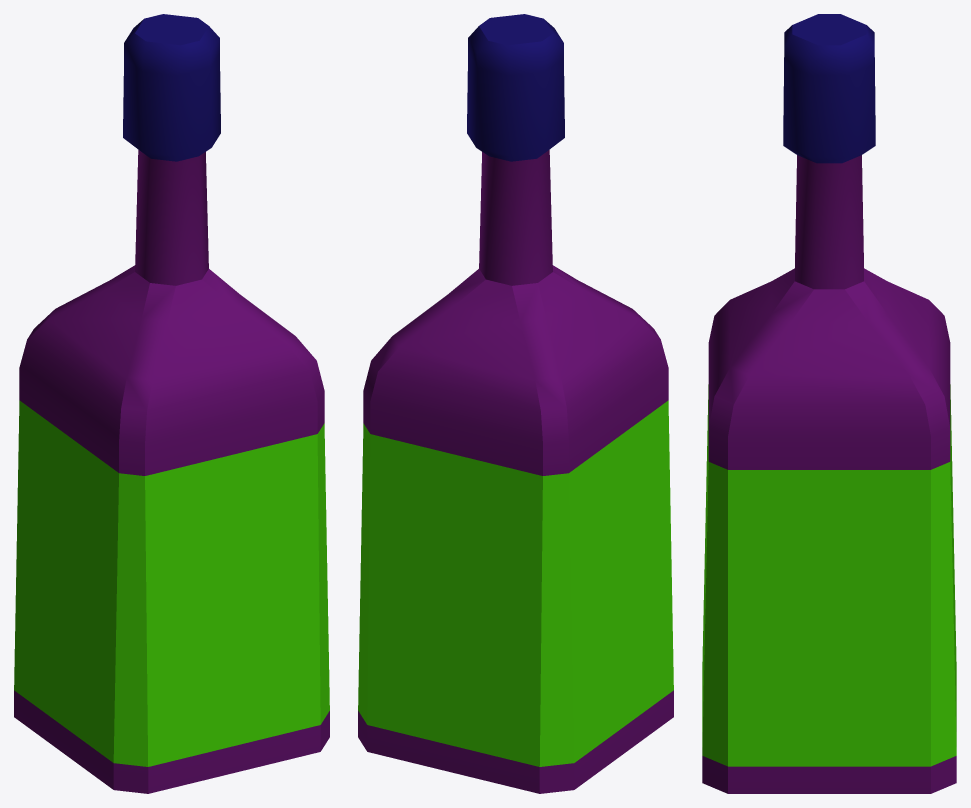
3 renders of one model, left to right at view 1: azimuth 30°, elevation 25°; view 2: azimuth 150°, elevation 25°; view 3: azimuth 270°, elevation 25°, orthographic.
Visible parts, largest first — view 1: B10; view 2: B10; view 3: B10.
Boxes of the visible parts, x1,y1,x2,y2 form: B10: (14,14,329,793); B10: (358,14,673,793); B10: (702,14,956,793).
Size of the model in its own units: 52.93 by 163 by 52.93.
